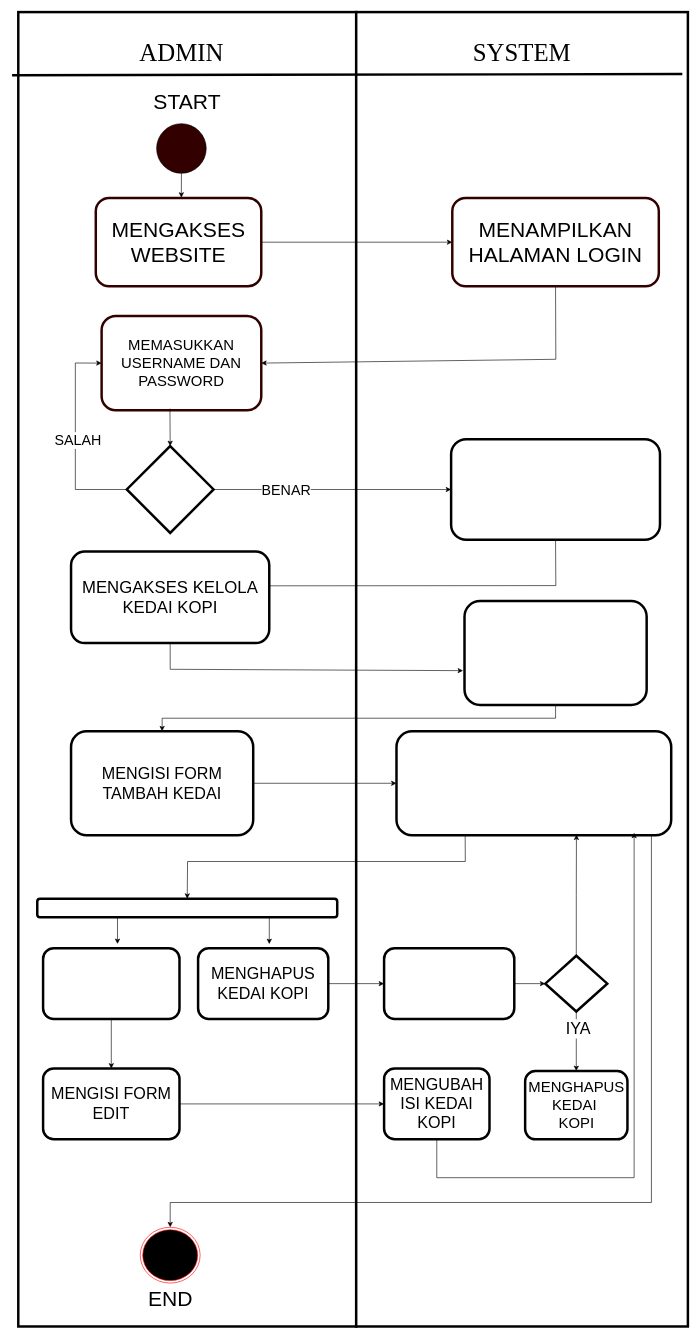
The diagram is 699 pixels wide and 1338 high, and some of its shapes have lost their labels. Each missing label, with the centre of its shape:
"MENAMPILKAN ALERT UNTUK MENGHAPUS" goes at pixel 449 983.
"MENAMPILKAN DASHBOARD DAN SIDE BAR ADMIN" goes at pixel 555 489.
"MENAMPILKAN HALAMAN KELOLA KEDAI KOPI" goes at pixel 555 653.
"MENAMPILKAN SEMUA LIST TEMPAT KOPI YANG SUDAH TERDAFTAR" goes at pixel 533 783.
"MENGEDIT KEDAI KOPI" goes at pixel 111 983.
